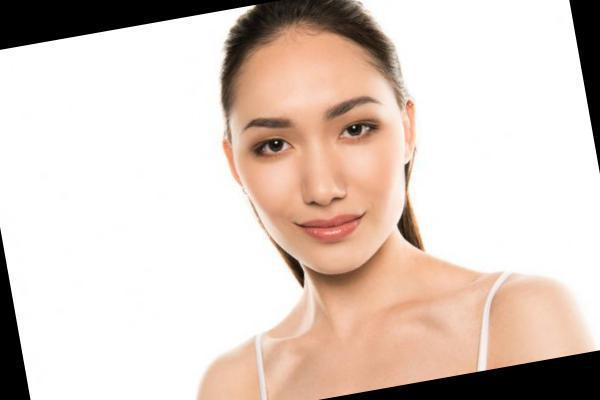Sober: (239, 46, 398, 259)
